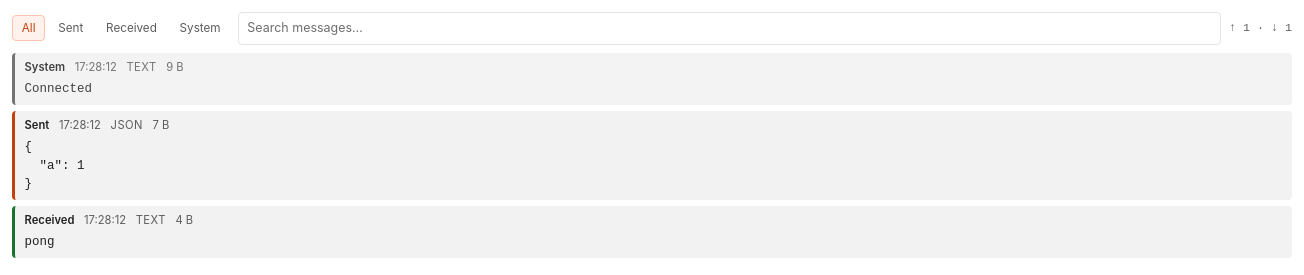
Test: MessageLog › filters by direction
# The filter button, not the message label of the same name.
Click the button "Received".
click(131, 28)  # box [96,15,167,41]
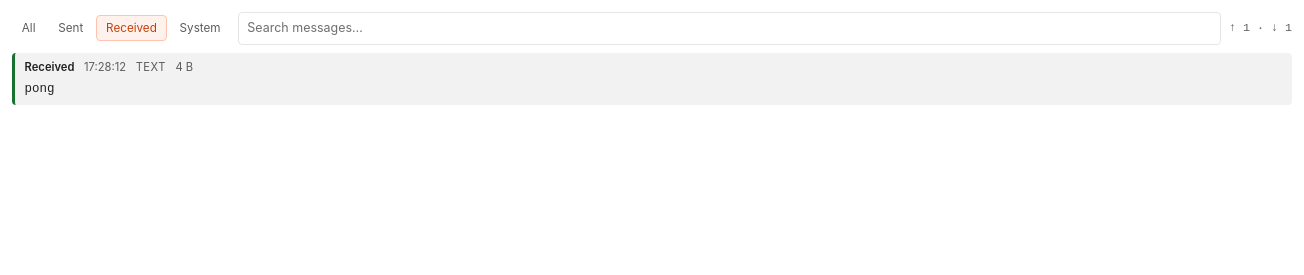
Expected: the text "pong" is shown, [25,82,54,96]
Expected: the text "Connected" is gone
Expected: the number of elements with class "ws-message" is 1, [12,53,1292,105]
